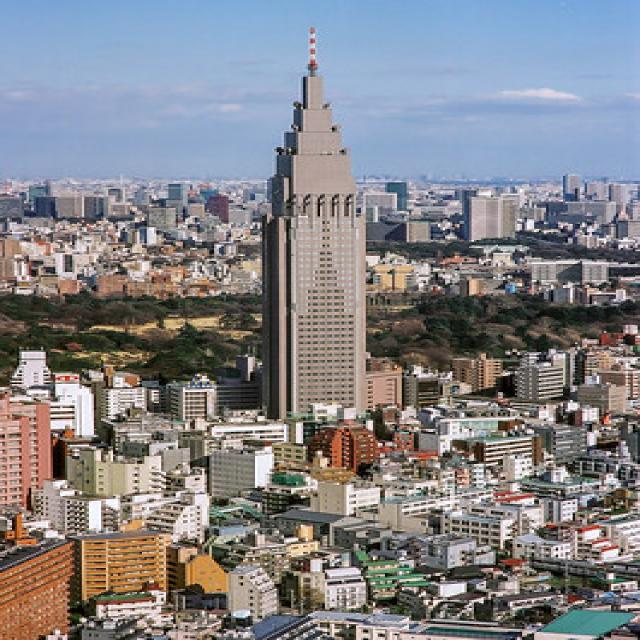building: (258, 63, 376, 439)
